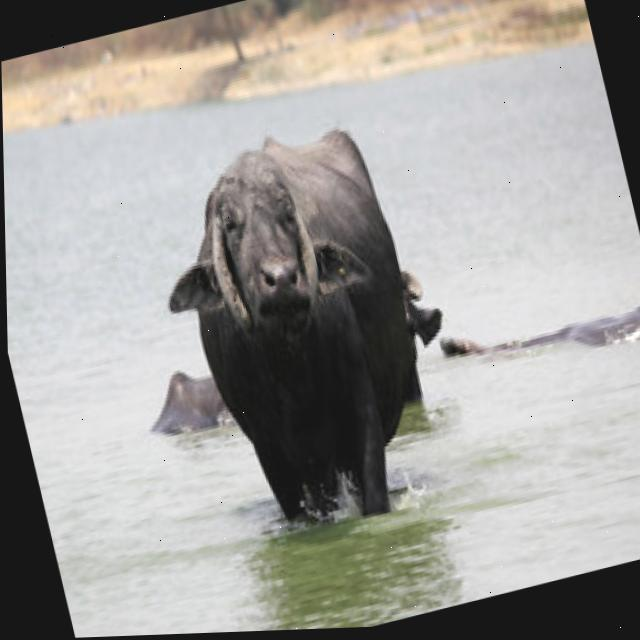Buffalo: (93, 95, 488, 561), (165, 140, 348, 356), (447, 287, 640, 385), (140, 359, 234, 444)
